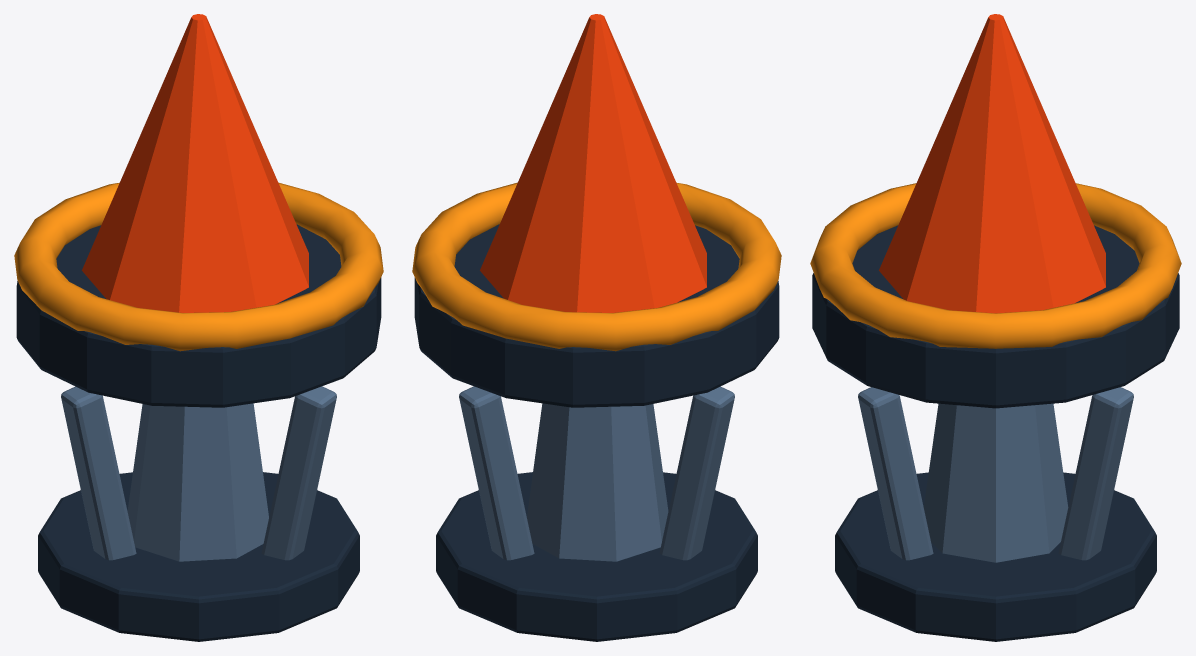
Rendered from summoner_ritual_brazier.obj.
3 views of the same model, side by side, from view 1: azimuth 30°, elevation 25°; view 2: azimuth 150°, elevation 25°; view 3: azimuth 270°, elevation 25° (orthographic).
Visible parts, largest first — view 1: arpg_brazier_flame_outer_M_orange, arpg_brazier_foot_M_gunmetal, arpg_brazier_bowl_M_gunmetal, arpg_brazier_rim_M_gold, arpg_brazier_stem_M_steel, arpg_brazier_leg_1_M_steel, arpg_brazier_leg_0_M_steel; view 2: arpg_brazier_flame_outer_M_orange, arpg_brazier_foot_M_gunmetal, arpg_brazier_bowl_M_gunmetal, arpg_brazier_rim_M_gold, arpg_brazier_stem_M_steel, arpg_brazier_leg_2_M_steel, arpg_brazier_leg_0_M_steel; view 3: arpg_brazier_flame_outer_M_orange, arpg_brazier_foot_M_gunmetal, arpg_brazier_bowl_M_gunmetal, arpg_brazier_rim_M_gold, arpg_brazier_stem_M_steel, arpg_brazier_leg_1_M_steel, arpg_brazier_leg_2_M_steel.
Boxes of the visible parts, <box> form: arpg_brazier_flame_outer_M_orange: <box>82,14,308,312</box>; arpg_brazier_foot_M_gunmetal: <box>38,472,359,641</box>; arpg_brazier_bowl_M_gunmetal: <box>16,224,381,407</box>; arpg_brazier_rim_M_gold: <box>14,182,383,351</box>; arpg_brazier_stem_M_steel: <box>127,403,268,561</box>; arpg_brazier_leg_1_M_steel: <box>261,386,336,560</box>; arpg_brazier_leg_0_M_steel: <box>61,386,136,560</box>; arpg_brazier_flame_outer_M_orange: <box>480,14,706,312</box>; arpg_brazier_foot_M_gunmetal: <box>436,472,757,641</box>; arpg_brazier_bowl_M_gunmetal: <box>414,224,779,407</box>; arpg_brazier_rim_M_gold: <box>412,182,781,351</box>; arpg_brazier_stem_M_steel: <box>527,403,668,561</box>; arpg_brazier_leg_2_M_steel: <box>459,386,534,560</box>; arpg_brazier_leg_0_M_steel: <box>659,386,734,560</box>; arpg_brazier_flame_outer_M_orange: <box>879,14,1105,313</box>; arpg_brazier_foot_M_gunmetal: <box>835,472,1156,641</box>; arpg_brazier_bowl_M_gunmetal: <box>812,225,1179,408</box>; arpg_brazier_rim_M_gold: <box>810,183,1181,348</box>; arpg_brazier_stem_M_steel: <box>923,403,1068,562</box>; arpg_brazier_leg_1_M_steel: <box>858,387,933,560</box>; arpg_brazier_leg_2_M_steel: <box>1058,387,1133,560</box>.
Bounding box in the file's own units: 0.97 × 1.61 × 0.97.
